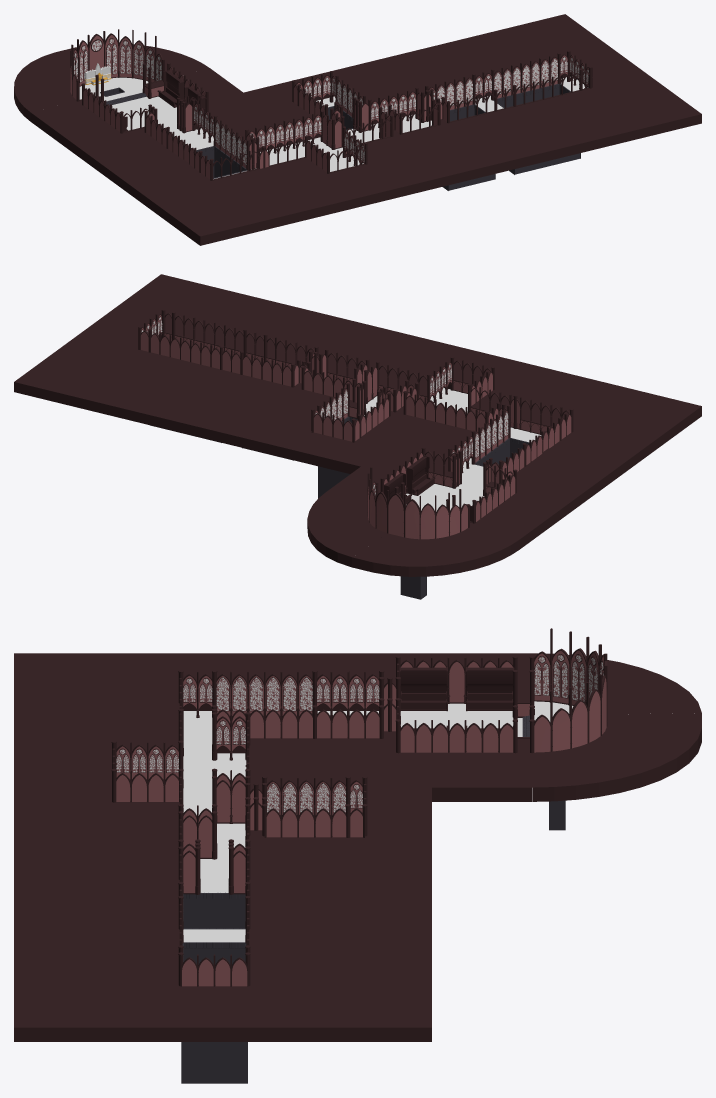
The model's file is BossRoom.fbx.
3 renders of one model, top to bottom at view 1: azimuth 30°, elevation 25°; view 2: azimuth 150°, elevation 25°; view 3: azimuth 270°, elevation 25°, orthographic. The views are drawn at different scales.
Visible parts, largest first — view 1: Muro_Externo_Entero_x2.003, Muro_Externo_Entero_x2, Muro_Externo_Entero_x2.002, Pared_Normal.008, Muro_Externo_Entero_x2.004, Muro_Externo_Entero_x2.008, Muro_Externo_Entero_x2.005, Muro_Externo_Entero_x2.001, Pared_Vidriera_Con_Agujero.007, Pared_Normal.038, Muro_Externo_Entero_x2.006, Bancos (+26 smaller); view 2: Muro_Externo_Entero_x2, Muro_Externo_Entero_x2.003, Pared_Normal.008, Muro_Externo_Entero_x2.002, Muro_Externo_Entero_x2.004, Muro_Externo_Entero_x2.001, Muro_Externo_Entero_x2.005, Muro_Externo_Entero_x2.007, Muro_Externo_Entero_x2.008, Pared_Normal.038, Pared_Vidriera_Con_Agujero.007, Muro_Externo_Entero_x2.006 (+16 smaller); view 3: Muro_Externo_Entero_x2.003, Muro_Externo_Entero_x2, Pared_Normal.008, Muro_Externo_Entero_x2.002, Muro_Externo_Entero_x2.004, Muro_Externo_Entero_x2.006, Muro_Externo_Entero_x2.001, Bancos, Muro_Externo_Entero_x2.008, Pared_Vidriera_Con_Agujero.002, Pared_Normal.048, Bordillo.013 (+29 smaller).
Boxes of the visible parts, x1,y1,x2,y2 form: Muro_Externo_Entero_x2.003: [367, 74, 701, 192]; Muro_Externo_Entero_x2: [319, 14, 619, 104]; Muro_Externo_Entero_x2.002: [145, 160, 351, 245]; Pared_Normal.008: [14, 29, 210, 121]; Muro_Externo_Entero_x2.004: [74, 131, 204, 209]; Muro_Externo_Entero_x2.008: [319, 161, 408, 208]; Muro_Externo_Entero_x2.005: [30, 105, 111, 153]; Muro_Externo_Entero_x2.001: [208, 98, 304, 139]; Pared_Vidriera_Con_Agujero.007: [494, 56, 558, 98]; Pared_Normal.038: [248, 113, 321, 153]; Muro_Externo_Entero_x2.006: [183, 68, 253, 109]; Bancos: [90, 70, 205, 131]; Muro_Externo_Entero_x2: [14, 339, 326, 456]; Muro_Externo_Entero_x2.003: [103, 274, 466, 388]; Pared_Normal.008: [307, 467, 519, 576]; Muro_Externo_Entero_x2.002: [481, 366, 701, 454]; Muro_Externo_Entero_x2.004: [517, 432, 648, 514]; Muro_Externo_Entero_x2.001: [353, 418, 468, 471]; Muro_Externo_Entero_x2.005: [479, 495, 566, 549]; Muro_Externo_Entero_x2.007: [279, 438, 371, 473]; Muro_Externo_Entero_x2.008: [444, 351, 538, 391]; Pared_Normal.038: [406, 394, 485, 431]; Pared_Vidriera_Con_Agujero.007: [151, 332, 219, 369]; Muro_Externo_Entero_x2.006: [326, 458, 401, 502]; Muro_Externo_Entero_x2.003: [14, 815, 181, 1041]; Muro_Externo_Entero_x2: [264, 844, 431, 1041]; Pared_Normal.008: [532, 628, 701, 801]; Muro_Externo_Entero_x2.002: [14, 653, 181, 766]; Muro_Externo_Entero_x2.004: [164, 653, 398, 695]; Muro_Externo_Entero_x2.006: [398, 759, 532, 801]; Muro_Externo_Entero_x2.001: [264, 745, 398, 801]; Bancos: [399, 667, 514, 730]; Muro_Externo_Entero_x2.008: [14, 766, 114, 808]; Pared_Vidriera_Con_Agujero.002: [216, 671, 312, 716]; Pared_Normal.048: [400, 720, 513, 752]; Bordillo.013: [181, 1042, 247, 1083].
Bounding box in the file's own units: 53000 × 10950 × 41156.
